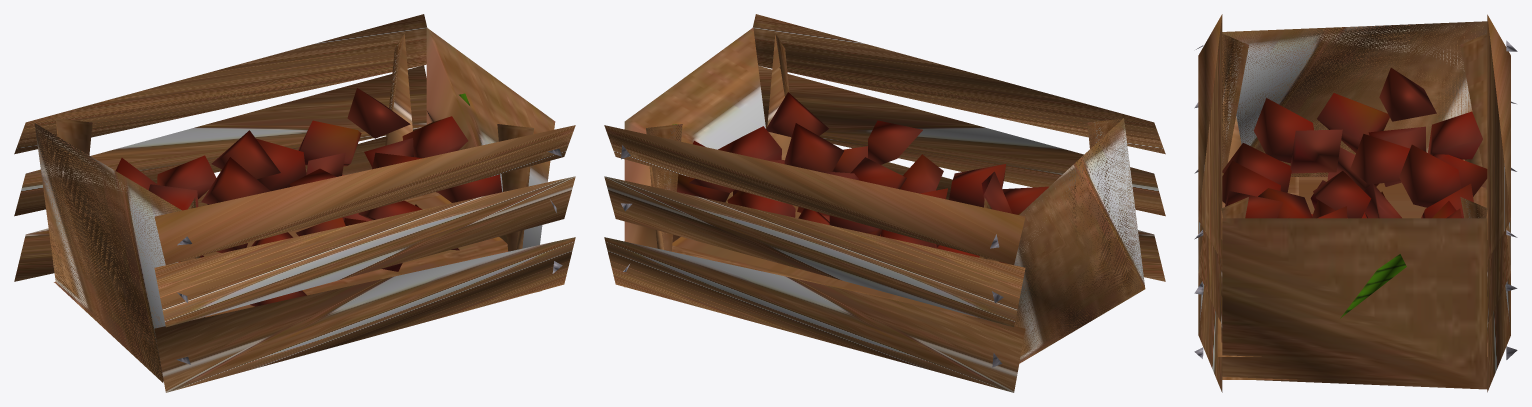
The model's file is FarmCrate_Apple.low.gltf.
3 views of the same model, side by side, from view 1: azimuth 30°, elevation 25°; view 2: azimuth 150°, elevation 25°; view 3: azimuth 270°, elevation 25° (orthographic). The views are drawn at different scales.
Visible parts, largest first — view 1: FarmCrate_Apple; view 2: FarmCrate_Apple; view 3: FarmCrate_Apple.
Part boxes in pixels (x1,y1,x2,y2): FarmCrate_Apple: [14, 14, 575, 392]; FarmCrate_Apple: [604, 14, 1165, 392]; FarmCrate_Apple: [1194, 14, 1517, 392].
Bounding box in the file's own units: 0.6431 × 0.2438 × 0.4109.
Materials: 3 (3 with a texture image).
